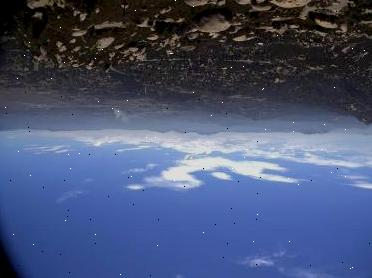smoke: (111, 106, 137, 130)
